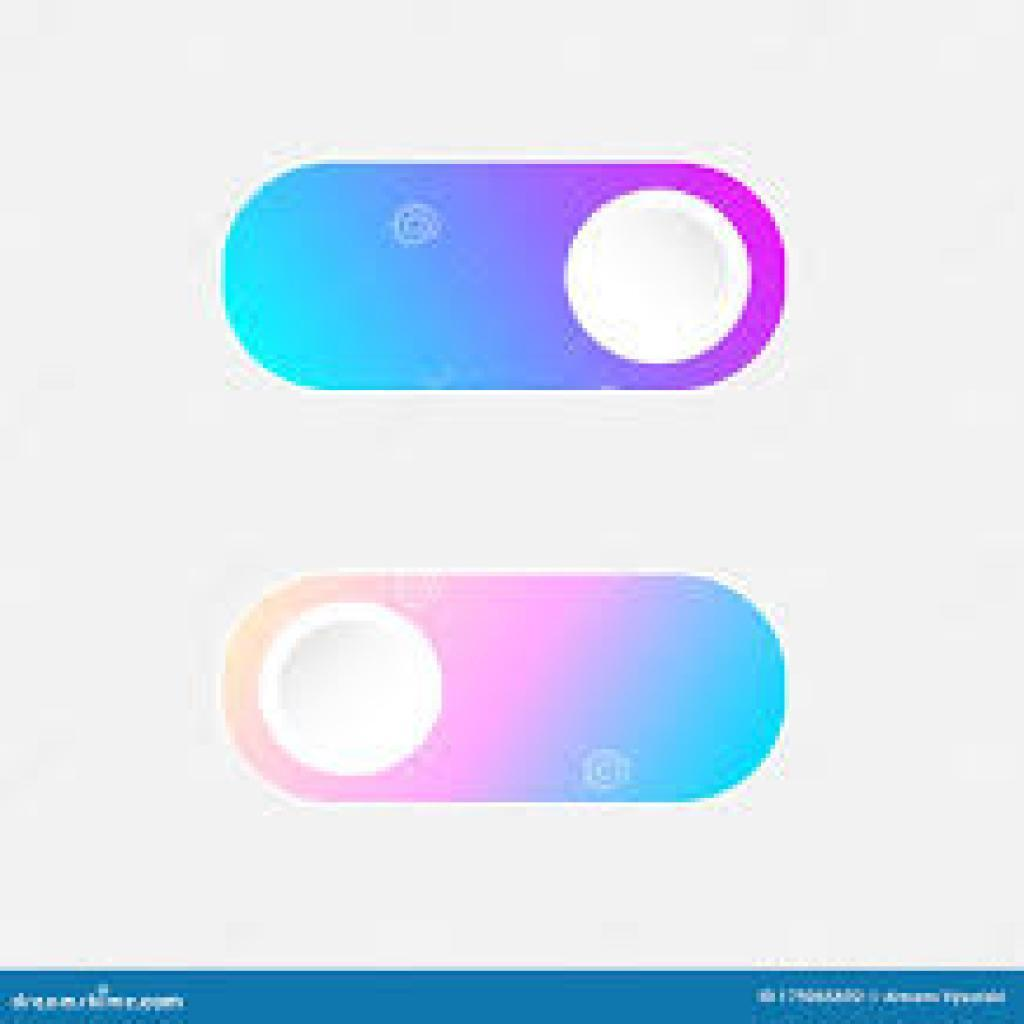switch: (223, 559, 800, 817), (209, 153, 783, 403)
